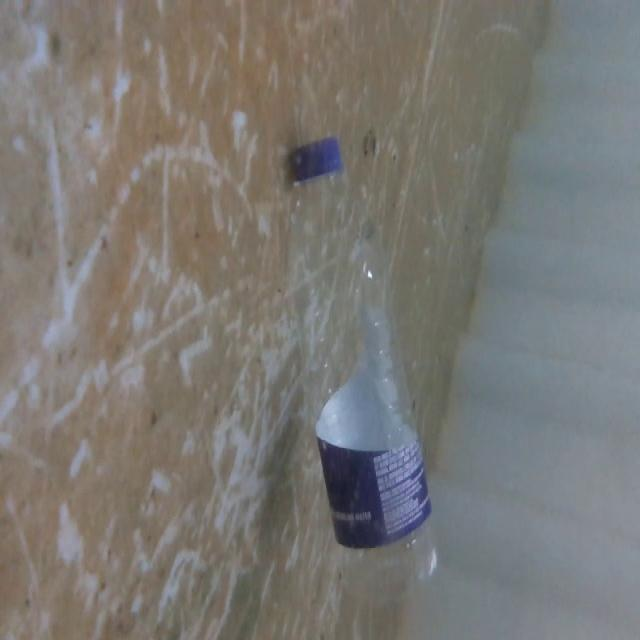plastic bottle: (284, 134, 442, 594)
